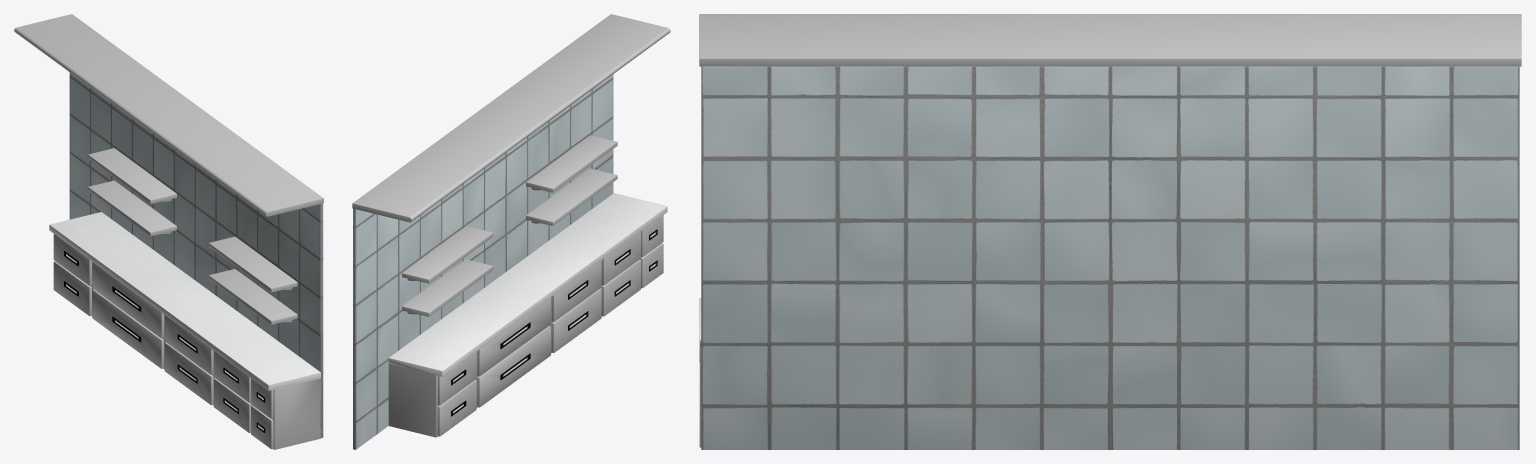
Rendered from CounterBack.obj.
3 views of the same model, side by side, from view 1: azimuth 30°, elevation 25°; view 2: azimuth 150°, elevation 25°; view 3: azimuth 270°, elevation 25° (orthographic). The views are drawn at different scales.
Parts seen in each view (by area): view 1: back_counter; view 2: back_counter; view 3: back_counter.
Boxes of the visible parts, <box> form: back_counter: <box>14,14,323,449</box>; back_counter: <box>352,14,670,449</box>; back_counter: <box>699,14,1521,449</box>.
Size of the model in its own units: 0.8436 by 3.34 by 6.35.
